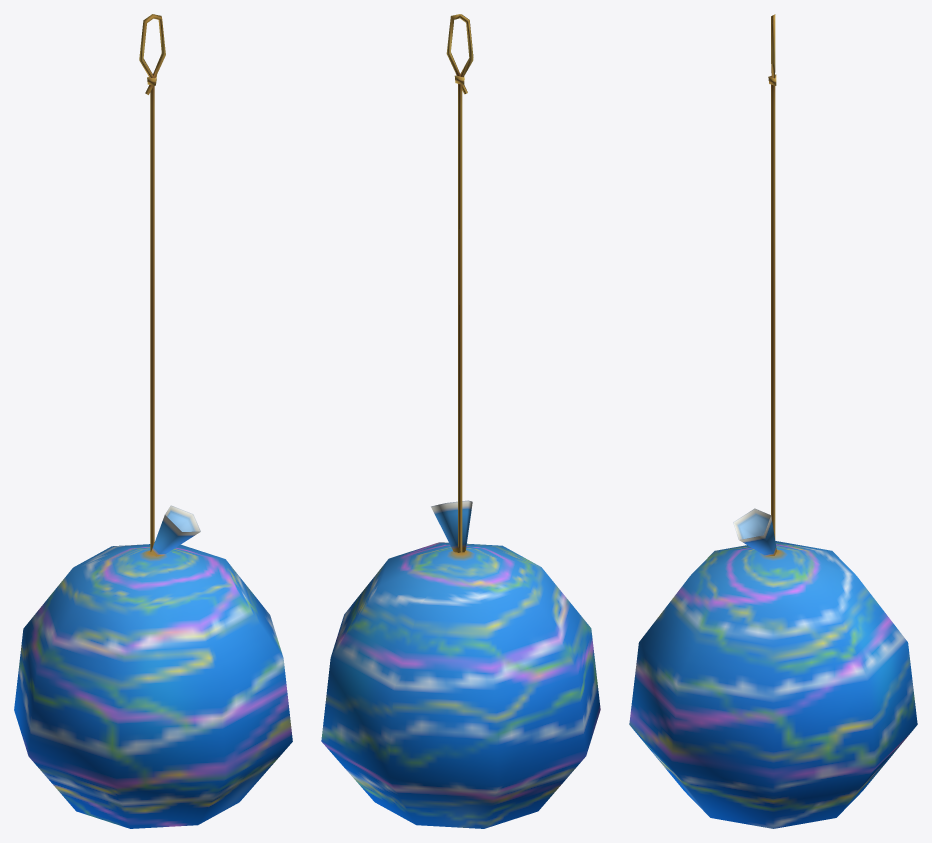
Rendered from jsf_WaterBalloon_12_a.fbx.
The picture shows the model from 3 angles, left to right: view 1: azimuth 30°, elevation 25°; view 2: azimuth 150°, elevation 25°; view 3: azimuth 270°, elevation 25°; orthographic projection.
Visible parts, largest first — view 1: jsf_WaterBalloon_12_a; view 2: jsf_WaterBalloon_12_a; view 3: jsf_WaterBalloon_12_a.
Part boxes in pixels (x1=…): jsf_WaterBalloon_12_a: x1=14, y1=14, x2=292, y2=828; jsf_WaterBalloon_12_a: x1=321, y1=14, x2=600, y2=828; jsf_WaterBalloon_12_a: x1=629, y1=14, x2=917, y2=828.
Bounding box in the file's own units: 10.92 × 33.54 × 10.92.
